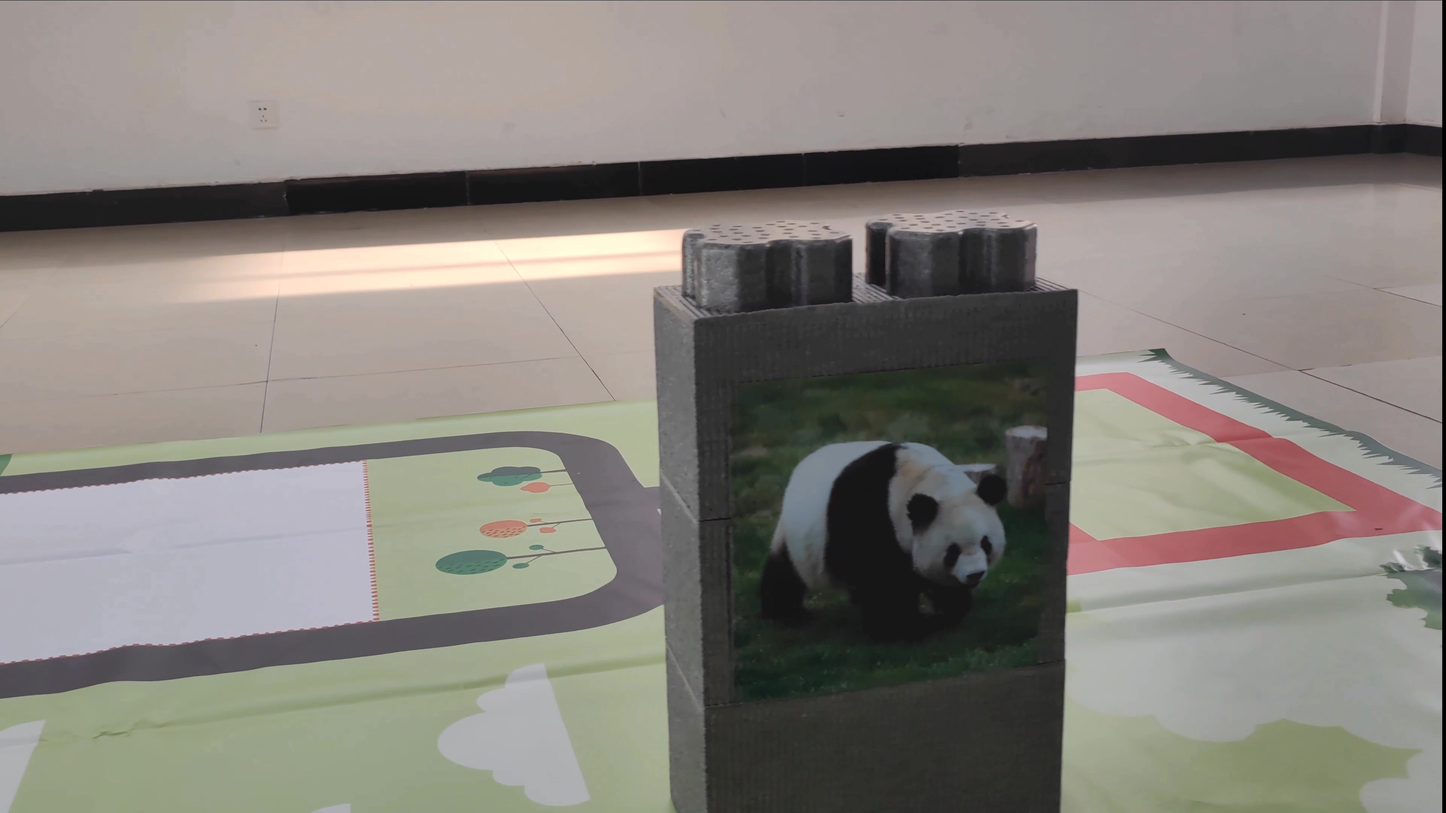panda: (749, 423, 1042, 662)
